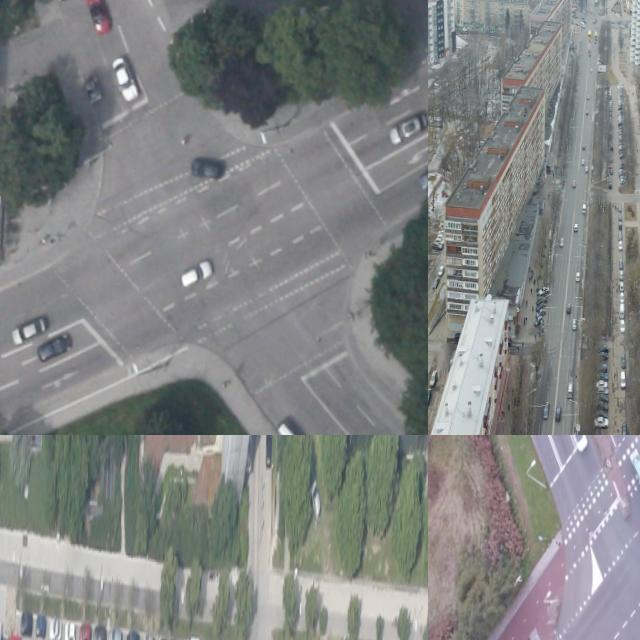UAI: (386, 108, 428, 147), (108, 53, 140, 103), (35, 331, 73, 364), (10, 315, 46, 347), (179, 258, 213, 290), (83, 0, 111, 36), (190, 155, 223, 178), (309, 477, 322, 525), (83, 74, 103, 104), (274, 419, 308, 435), (415, 154, 428, 193), (628, 447, 640, 485), (565, 435, 589, 452), (21, 610, 33, 636), (35, 612, 46, 638), (49, 617, 61, 640), (264, 435, 272, 468), (64, 618, 75, 640), (78, 622, 90, 640), (92, 624, 105, 640), (594, 416, 609, 429), (108, 627, 121, 640), (125, 629, 139, 640), (595, 393, 609, 403), (566, 381, 574, 398), (535, 307, 546, 319), (595, 402, 608, 412), (542, 401, 549, 419), (5, 632, 20, 640), (595, 410, 608, 419), (554, 405, 561, 421), (620, 353, 627, 369), (597, 363, 608, 373), (535, 296, 546, 306), (538, 286, 549, 296), (597, 372, 609, 381), (597, 387, 609, 396), (534, 315, 543, 327), (619, 319, 626, 334), (535, 302, 545, 312), (598, 344, 609, 353), (621, 421, 628, 435), (597, 353, 609, 361), (595, 380, 607, 388), (142, 632, 154, 640), (566, 301, 572, 314), (572, 317, 578, 329), (619, 292, 624, 304), (619, 269, 624, 281), (619, 257, 624, 269), (618, 230, 623, 241), (618, 240, 623, 250), (617, 220, 622, 230), (575, 272, 580, 282), (619, 178, 626, 185), (573, 223, 578, 232), (157, 635, 166, 640), (619, 175, 626, 181), (619, 281, 623, 291), (559, 237, 563, 247), (608, 179, 612, 189), (609, 168, 614, 176), (618, 203, 622, 212), (584, 165, 588, 173), (618, 213, 622, 221), (593, 433, 608, 435), (609, 162, 613, 169), (609, 156, 613, 163), (585, 94, 589, 101), (572, 179, 575, 188), (582, 144, 586, 150), (581, 158, 584, 166), (585, 109, 589, 115), (610, 143, 613, 150)
harvester: (620, 371, 627, 390), (619, 303, 625, 318), (582, 204, 587, 214)
